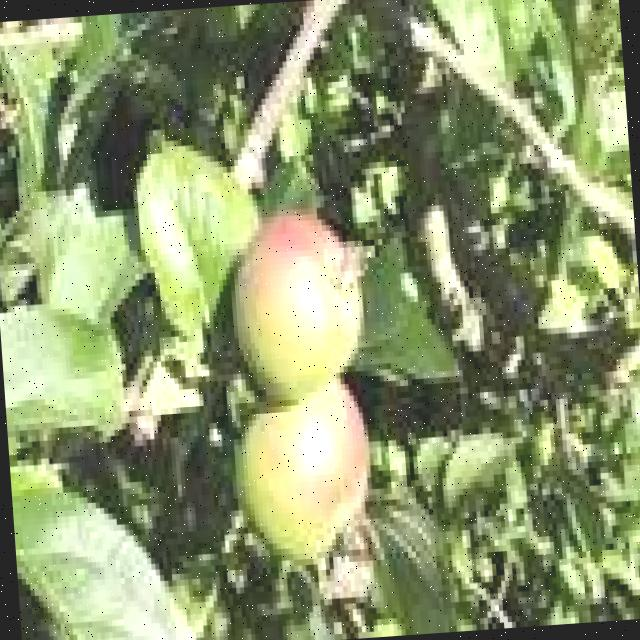Unripe: (227, 208, 368, 402)
